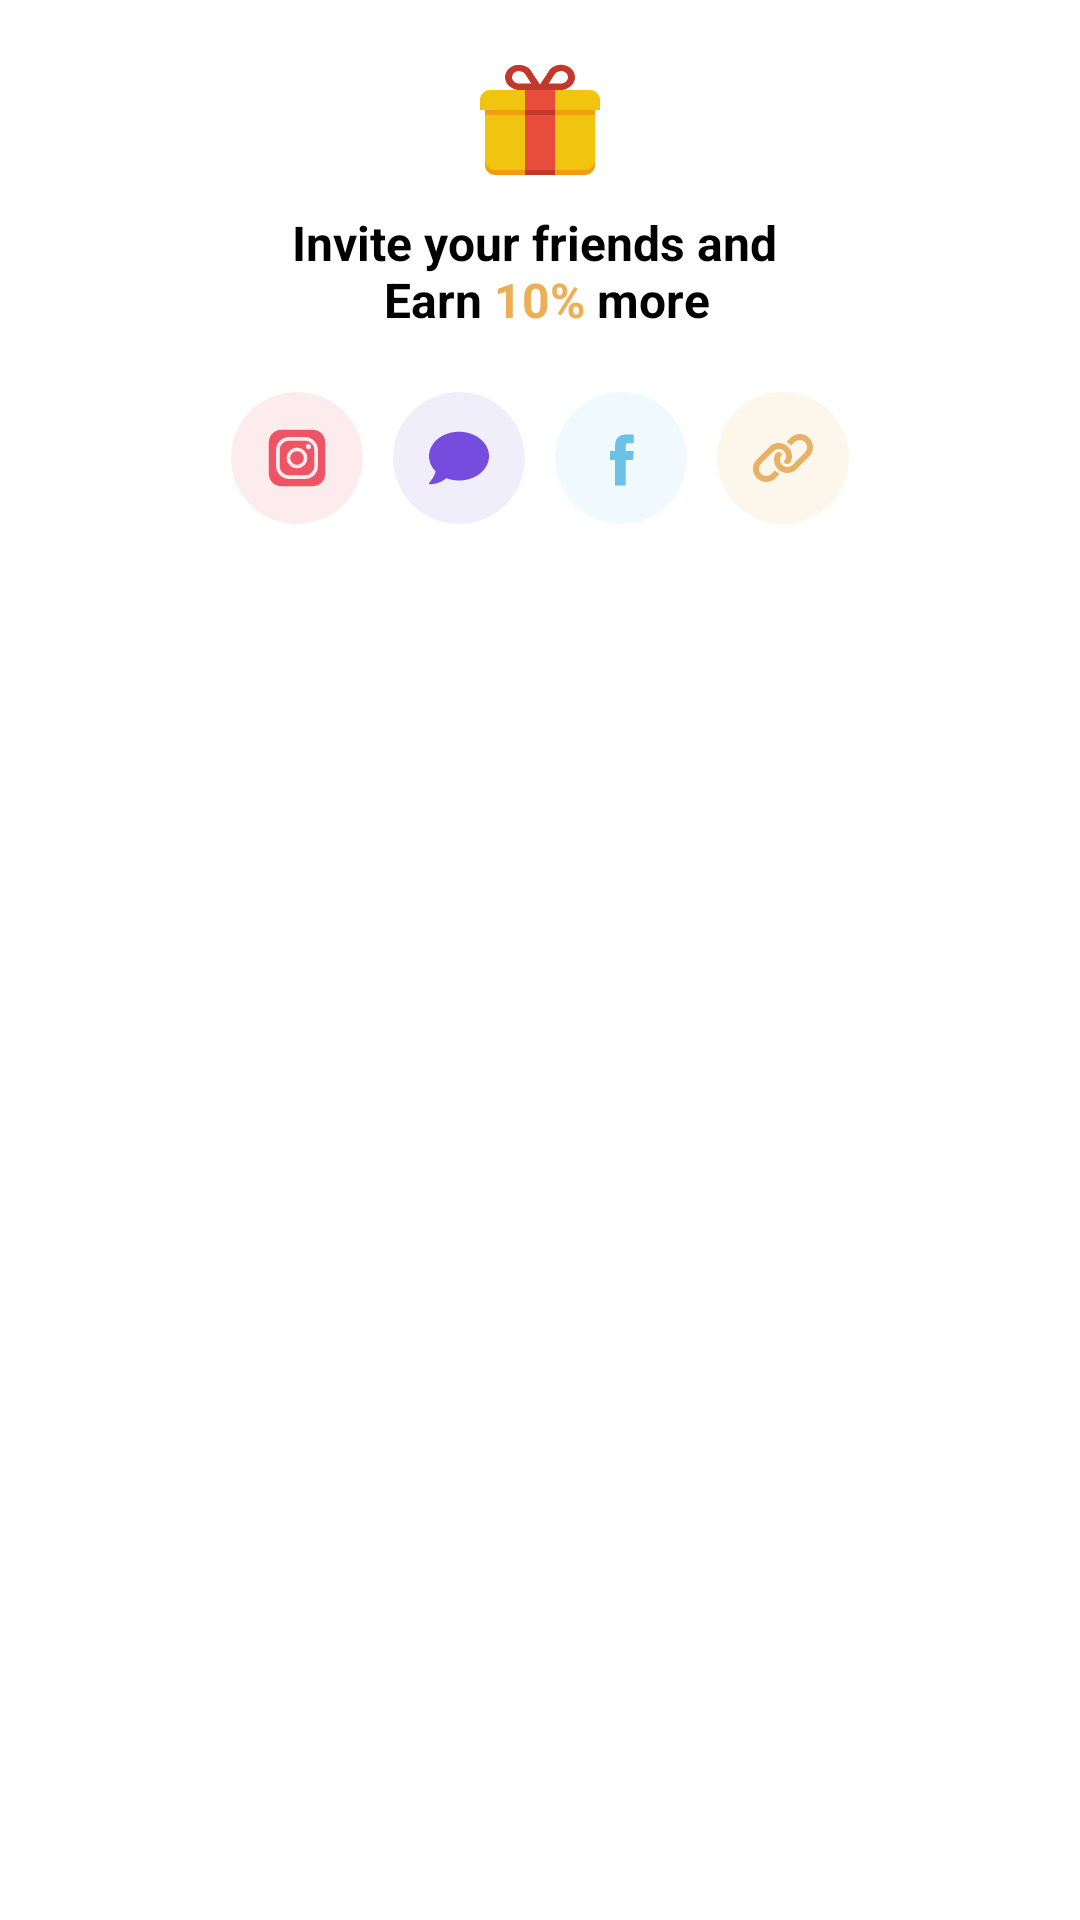

Named icons in this screenshot (1080*1920) and their bounding boxes, (x1, y1, x2, y2):
bubble chat: (429, 431, 489, 485)
gift: (480, 64, 600, 175)
link connection: (717, 392, 849, 524)
